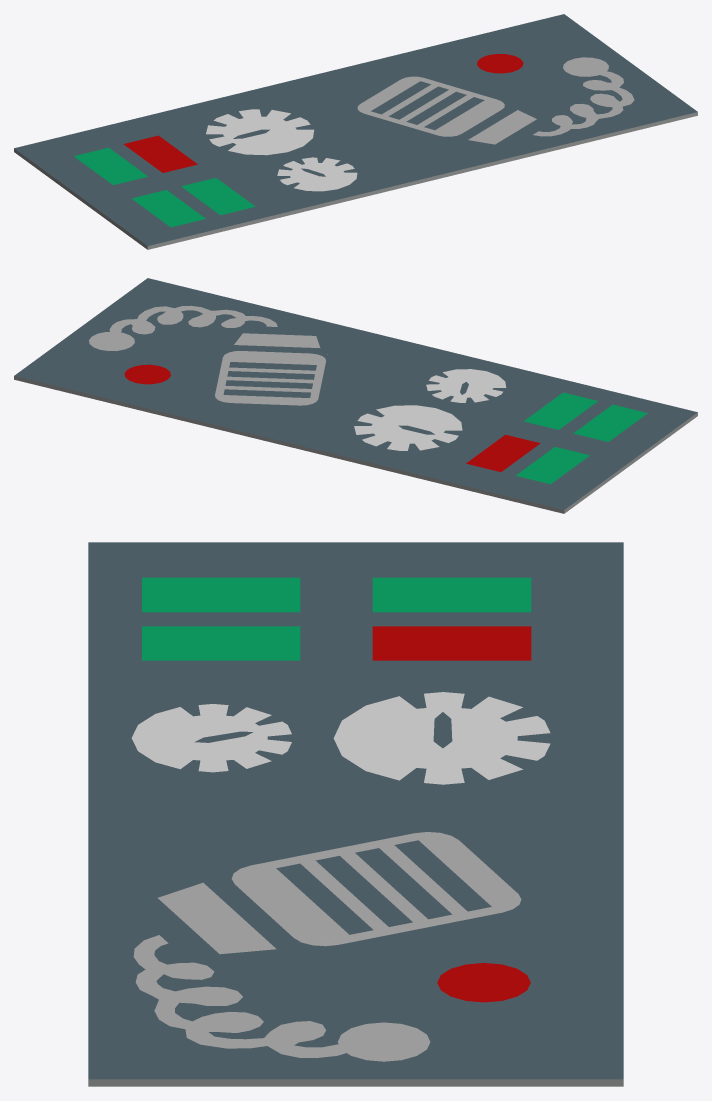
3 renders of one model, top to bottom at view 1: azimuth 30°, elevation 25°; view 2: azimuth 150°, elevation 25°; view 3: azimuth 270°, elevation 25°, orthographic. The views are drawn at different scales.
Parts seen in each view (by area): view 1: world; view 2: world; view 3: world.
Part boxes in pixels (x1,y1,x2,y2): world: (14,14,697,249); world: (14,278,697,513); world: (88,542,623,1086).
Bounding box in the file's own units: 0.0152 × 0.0001 × 0.0064.
